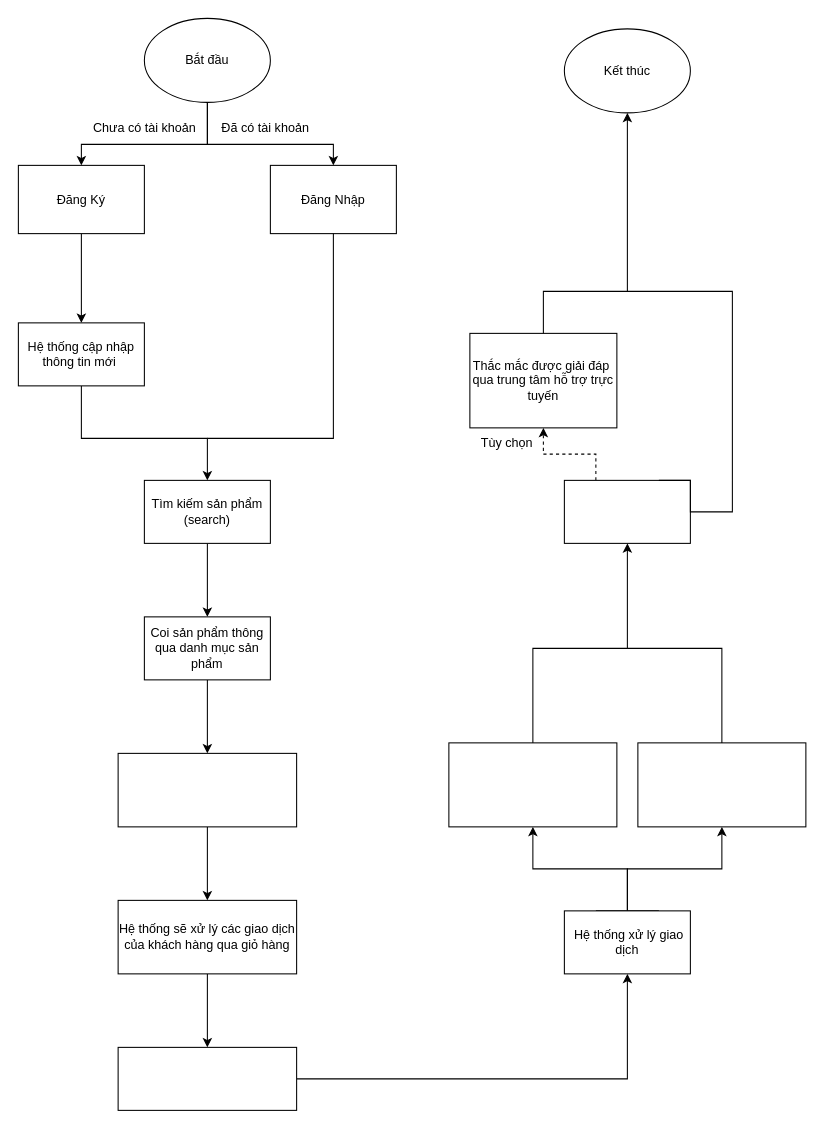
The diagram is 824 pixels wide and 1129 high, and some of its shapes have lost their labels. Here are the shapes that lost their labels. From the top down, the centre of each, then its label:
pixel 626 511: Hoàn tất đơn hàng
pixel 207 789: Hệ hỗ trợ ra quyết định gợi ý những sản phẩm thích hợp
pixel 532 784: Thanh toán online: Internet Banking, Oneday, thẻ Visa, thẻ ATM ngân hàng, etc…
pixel 721 784: Thanh toán tiền mặt: thanh toán bằng tiền mặt trực tiếp (COD)
pixel 207 1078: Giỏ hàng: xem lại đơn hàng, thay đổi, tính giá và đặt hàng
